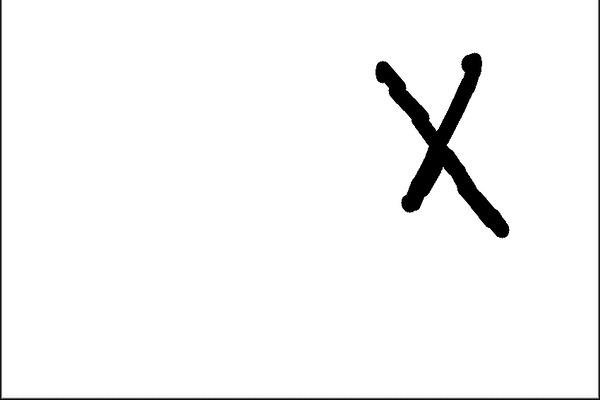X: (357, 33, 519, 267)
